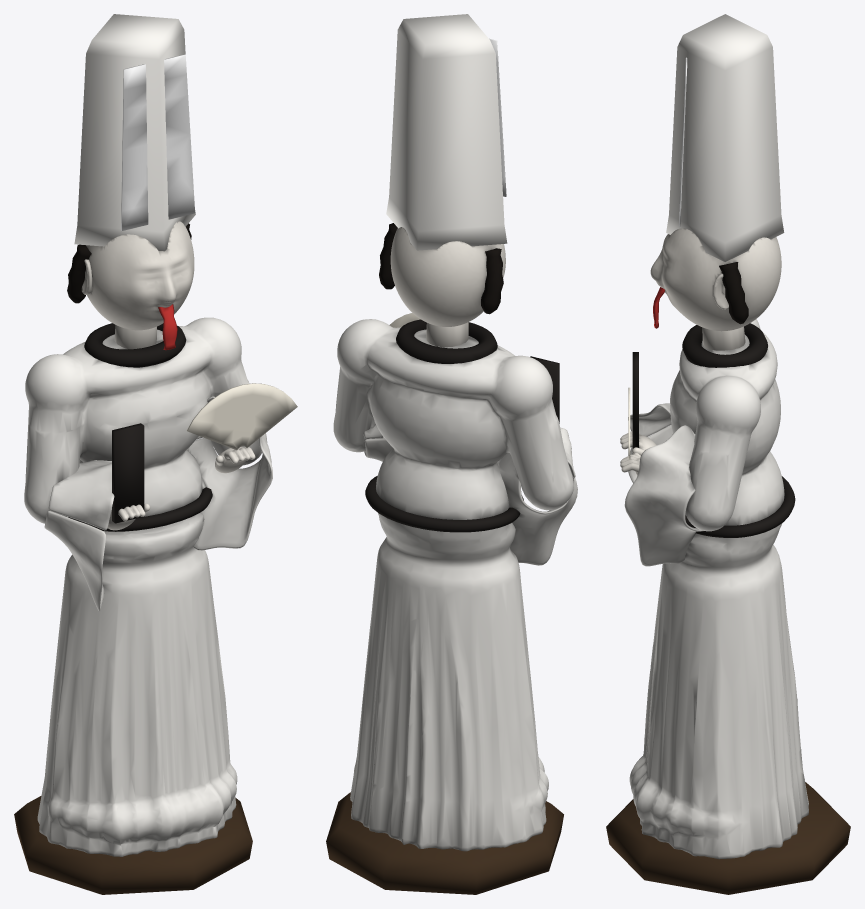
File: baiwu.glb
The picture shows the model from 3 angles, left to right: view 1: azimuth 30°, elevation 25°; view 2: azimuth 150°, elevation 25°; view 3: azimuth 270°, elevation 25°; orthographic projection.
Parts seen in each view (by area): view 1: BW_RobeMesh, BW_HatMesh, BW_Plinth, BW_HeadMesh, BW_HatPlate, BW_SleeveL, BW_SleeveR, BW_Fan, BW_Sash, BW_Tablet, BW_Hair, BW_Neck (+3 smaller); view 2: BW_RobeMesh, BW_HatMesh, BW_Plinth, BW_HeadMesh, BW_Sash, BW_SleeveL, BW_Hair, BW_Neck, BW_SleeveR, BW_HatPlate, BW_Tablet; view 3: BW_RobeMesh, BW_HatMesh, BW_Plinth, BW_HeadMesh, BW_SleeveR, BW_Sash, BW_SleeveL, BW_Hair, BW_Neck, BW_Tablet.
Boxes of the visible parts, box(x1,y1,x2,y2) form: BW_RobeMesh: box(24, 317, 261, 856); BW_HatMesh: box(74, 14, 195, 251); BW_Plinth: box(14, 796, 252, 894); BW_HeadMesh: box(85, 221, 194, 330); BW_HatPlate: box(121, 54, 195, 230); BW_SleeveL: box(44, 460, 114, 611); BW_SleeveR: box(187, 396, 272, 550); BW_Fan: box(186, 383, 297, 450); BW_Sash: box(68, 323, 212, 531); BW_Tablet: box(112, 423, 144, 523); BW_Hair: box(67, 223, 191, 303); BW_Neck: box(114, 325, 156, 349); BW_RobeMesh: box(333, 319, 573, 851); BW_HatMesh: box(386, 14, 507, 250); BW_Plinth: box(326, 792, 563, 894); BW_HeadMesh: box(390, 227, 505, 326); BW_Sash: box(365, 319, 523, 532); BW_SleeveL: box(497, 427, 577, 565); BW_Hair: box(379, 223, 503, 314); BW_Neck: box(426, 322, 468, 347); BW_SleeveR: box(363, 425, 392, 461); BW_HatPlate: box(489, 38, 506, 196); BW_Tablet: box(530, 356, 559, 423); BW_RobeMesh: box(629, 319, 808, 859); BW_HatMesh: box(666, 14, 784, 261); BW_Plinth: box(606, 782, 850, 894); BW_HeadMesh: box(650, 228, 781, 331); BW_SleeveR: box(624, 425, 703, 566); BW_Sash: box(682, 323, 795, 537); BW_SleeveL: box(628, 403, 672, 483); BW_Hair: box(719, 262, 748, 324); BW_Neck: box(702, 326, 745, 350); BW_Tablet: box(632, 352, 638, 454).
Size of the model in its own units: 0.8106 by 2.7 by 0.74.
